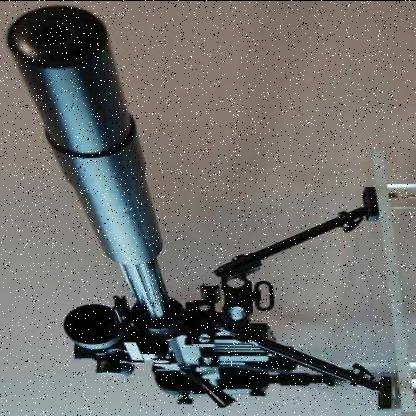rifle: (0, 5, 343, 404)
